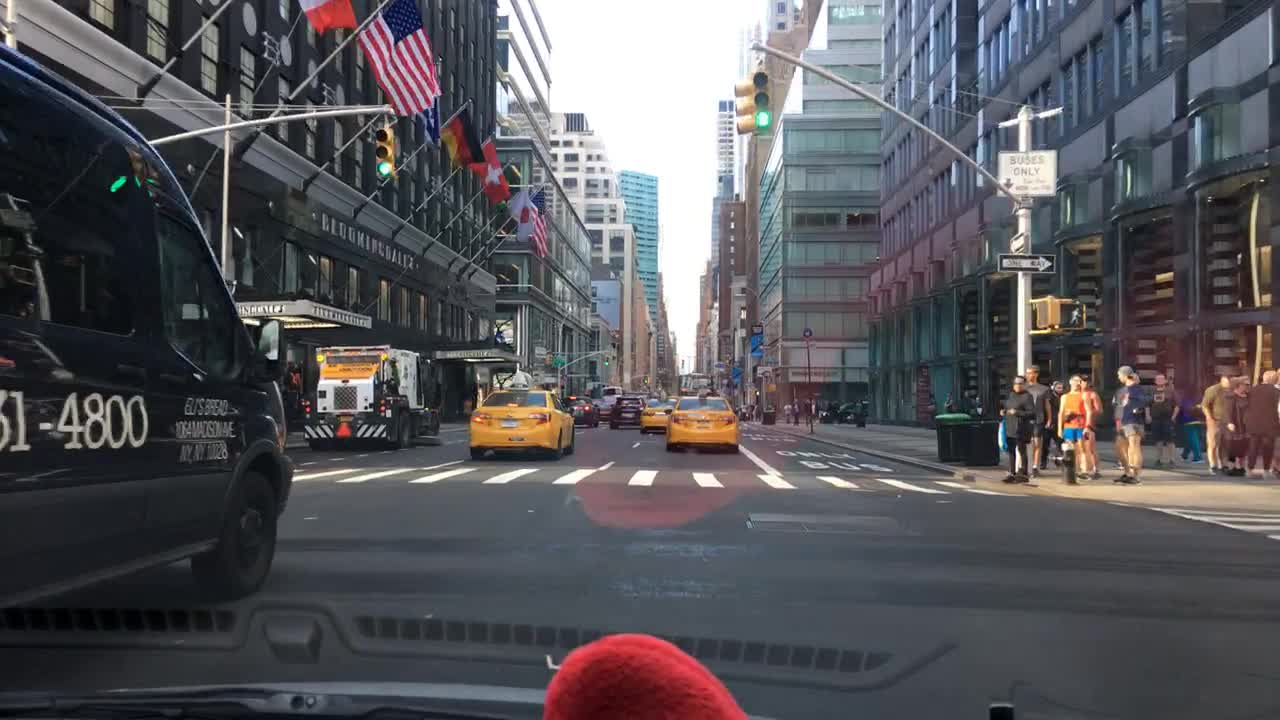car: (0, 44, 296, 632), (302, 345, 440, 448), (465, 364, 574, 460), (664, 388, 741, 451), (637, 394, 673, 436), (608, 393, 646, 429), (563, 394, 600, 429), (844, 398, 869, 422), (820, 398, 844, 423)
person: (997, 375, 1035, 483), (1110, 365, 1141, 479), (1143, 372, 1179, 469), (1021, 363, 1051, 477), (1199, 374, 1230, 475), (1074, 375, 1103, 478), (1251, 368, 1277, 481), (1181, 377, 1208, 465), (1228, 375, 1251, 473), (1126, 371, 1139, 480), (1051, 380, 1067, 460), (803, 396, 813, 428), (791, 398, 801, 426), (783, 400, 791, 425), (754, 400, 761, 424)
traffic light: (1036, 296, 1086, 331), (751, 71, 771, 130), (733, 79, 751, 136), (374, 128, 393, 181), (764, 382, 776, 393), (641, 377, 647, 386), (603, 355, 608, 365)
traffic sign: (995, 150, 1056, 197), (590, 384, 626, 413), (997, 253, 1055, 271), (1009, 233, 1027, 253), (750, 324, 761, 335), (801, 327, 813, 337), (759, 343, 771, 350)
